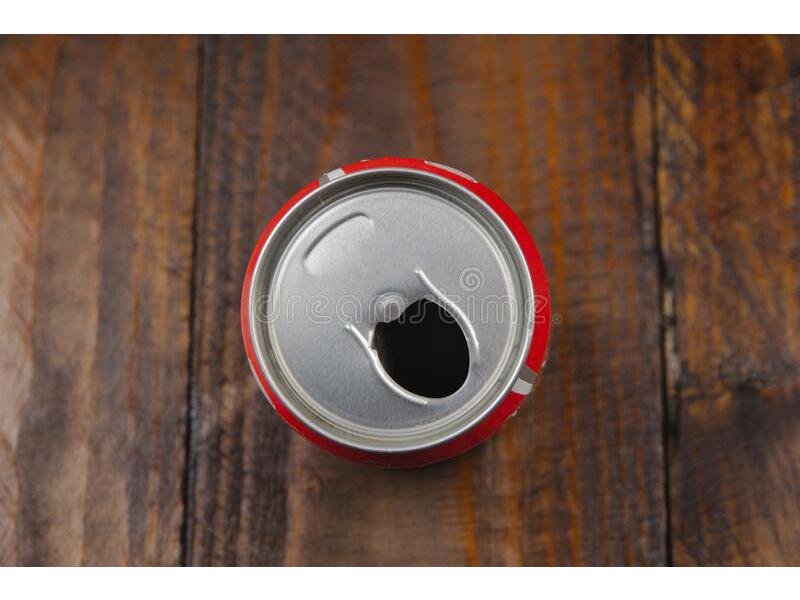can: (233, 144, 566, 474)
